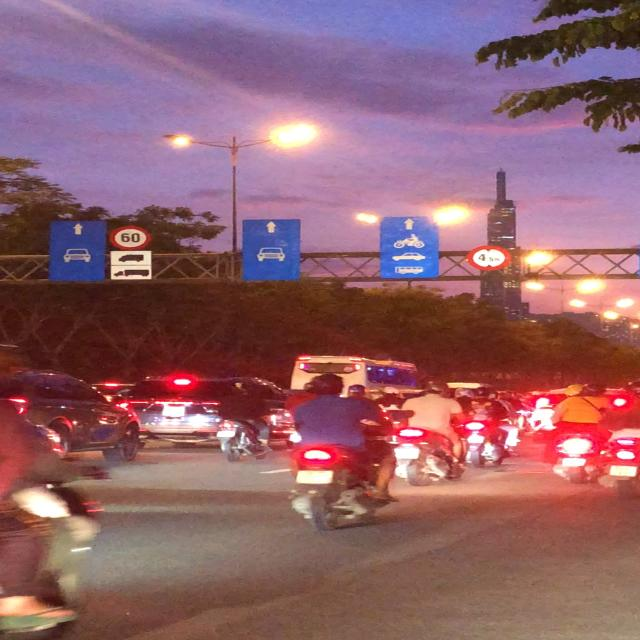Bien bao han che chieu cao: (464, 242, 514, 272)
Bien bao toc do toi da cho phep: (106, 224, 157, 252)
